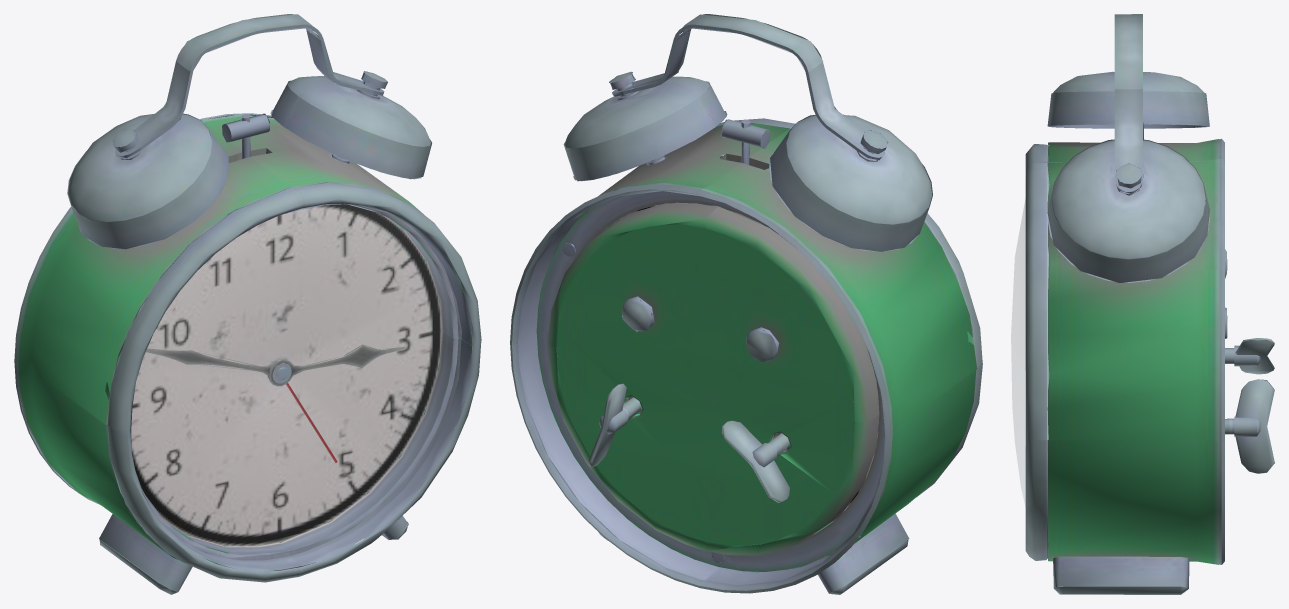
The model's file is item_alarm_clock.glb.
3 views of the same model, side by side, from view 1: azimuth 30°, elevation 25°; view 2: azimuth 150°, elevation 25°; view 3: azimuth 270°, elevation 25° (orthographic). The views are drawn at different scales.
Parts seen in each view (by area): view 1: alarm_clock; view 2: alarm_clock; view 3: alarm_clock.
Boxes of the visible parts, <box> form: alarm_clock: <box>14,14,481,594</box>; alarm_clock: <box>510,14,982,594</box>; alarm_clock: <box>1011,14,1274,594</box>.
Bounding box in the file's own units: 0.1646 × 0.2179 × 0.1018.
2 materials, 1 textured.
